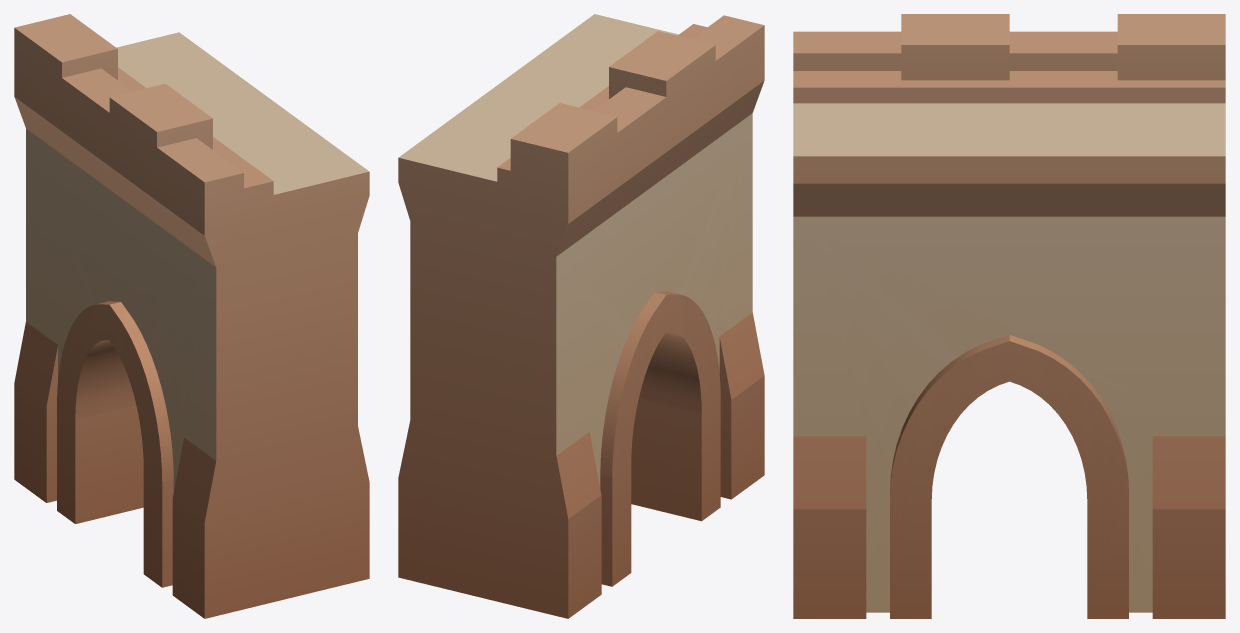
The model's file is wall-doorway.glb.
3 views of the same model, side by side, from view 1: azimuth 30°, elevation 25°; view 2: azimuth 150°, elevation 25°; view 3: azimuth 270°, elevation 25° (orthographic). The views are drawn at different scales.
Parts seen in each view (by area): view 1: wall-doorway; view 2: wall-doorway; view 3: wall-doorway.
Boxes of the visible parts, left/top/right/bottom form: wall-doorway: left=14, top=14, right=369, bottom=618; wall-doorway: left=398, top=14, right=764, bottom=618; wall-doorway: left=793, top=14, right=1225, bottom=618.
Bounding box in the file's own units: 0.5 × 1.31 × 1.
